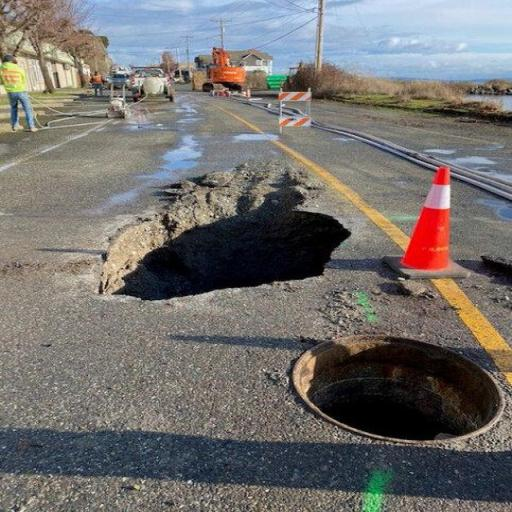Concentric_Crack: (101, 161, 350, 299)
